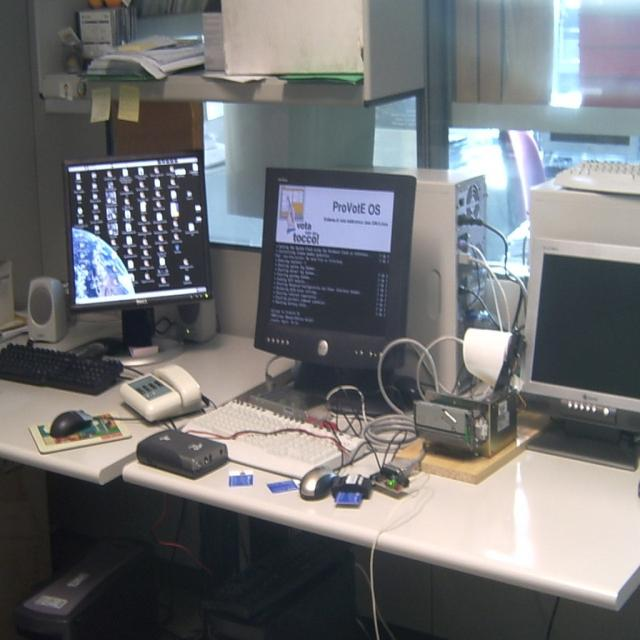desk: (0, 316, 256, 620)
keyboard: (184, 397, 344, 479), (0, 343, 124, 395), (554, 160, 640, 195)
mouse: (298, 465, 340, 501), (49, 408, 92, 438)
tv: (253, 168, 417, 376), (519, 179, 639, 439), (62, 152, 215, 316)
